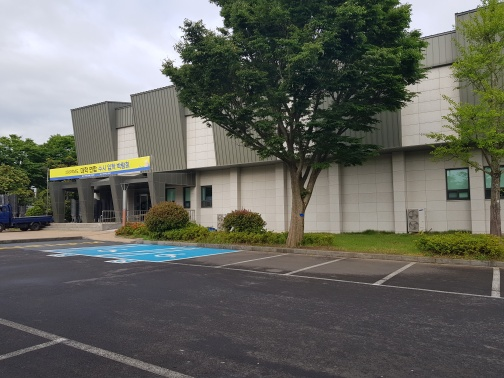Gym: (41, 26, 500, 241), (45, 178, 200, 228)
